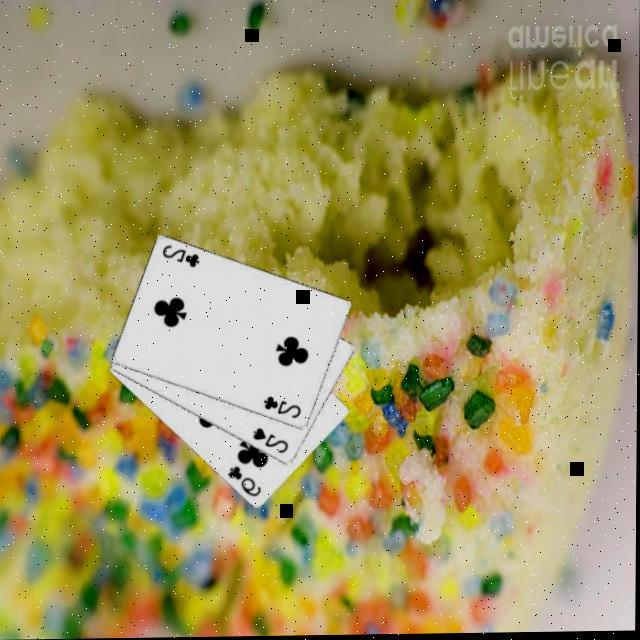2C: (260, 395, 304, 424), (159, 245, 202, 273)
2S: (249, 427, 291, 459)
6C: (224, 466, 264, 502)
